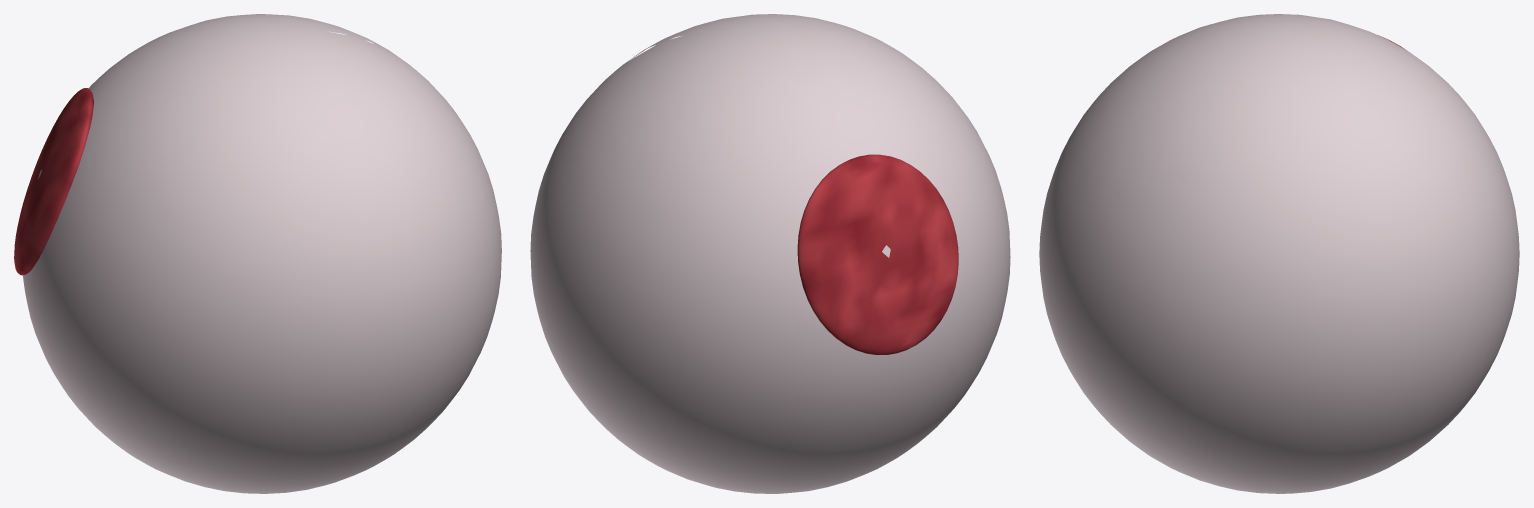
File: hafta_08.glb
3 renders of one model, left to right at view 1: azimuth 30°, elevation 25°; view 2: azimuth 150°, elevation 25°; view 3: azimuth 270°, elevation 25°, orthographic.
Visible parts, largest first — view 1: Amniyon_kesesi, Plasenta; view 2: Amniyon_kesesi, Plasenta; view 3: Amniyon_kesesi.
Part boxes in pixels (x1=…): Amniyon_kesesi: x1=22, y1=14, x2=501, y2=493; Plasenta: x1=14, y1=88, x2=93, y2=275; Amniyon_kesesi: x1=530, y1=14, x2=1010, y2=493; Plasenta: x1=797, y1=154, x2=958, y2=354; Amniyon_kesesi: x1=1039, y1=14, x2=1519, y2=493.
Size of the model in its own units: 1.22 by 1.22 by 1.22.
